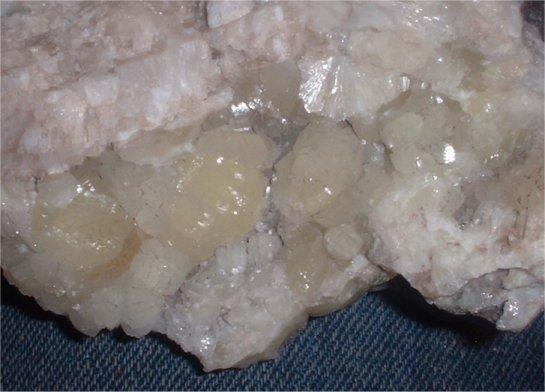prehnite: (171, 33, 545, 302), (25, 178, 135, 272)
